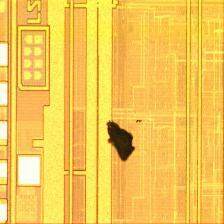PARTICLE: (90, 114, 146, 170)
